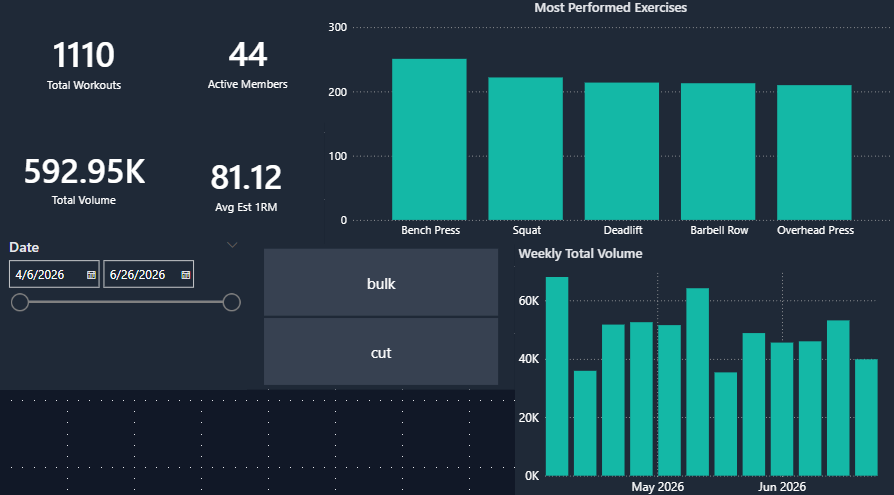

The dashboard page shown, as its layout file describes it:
{"tool":"powerbi","page":{"name":"Overview","canvas":[1280,720],"ordinal":0},"visuals":[{"type":"cardVisual","fields":{"Data":["workouts.Total Workouts"]},"box":[0,0,240,176],"z":0},{"type":"cardVisual","fields":{"Data":["workouts.Total Volume"]},"box":[0,166.2,240,178.8],"z":1000},{"type":"cardVisual","fields":{"Data":["workouts.Active Members"]},"box":[240,0,228.8,177.5],"z":2000},{"type":"cardVisual","fields":{"Data":["workouts.Avg Est 1RM"]},"box":[240,176,224,176],"z":3000},{"type":"clusteredColumnChart","title":"Most Performed Exercises","fields":{"Category":["workouts.exercise"],"Y":["workouts.Total Workouts"]},"box":[464,0,816,352],"z":4000},{"type":"clusteredColumnChart","title":"Weekly Total Volume","fields":{"Y":["workouts.Total Volume"],"Category":["Date.Week Start"]},"box":[736,352,544,368],"z":5000},{"type":"slicer","fields":{"Values":["Date.Date"]},"box":[0,336,352,224],"z":6000},{"type":"slicer","fields":{"Values":["members.goal"]},"box":[352,352,384,208],"z":7000}]}

Visuals, with their boxes in screenshot pixels (x1, y1, x2, y2), scaled from the page's 1280x720 canvas onto the 894x495 screenshot:
cardVisual - workouts.Total Workouts: 0, 0, 168, 121
cardVisual - workouts.Total Volume: 0, 114, 168, 237
cardVisual - workouts.Active Members: 168, 0, 327, 122
cardVisual - workouts.Avg Est 1RM: 168, 121, 324, 242
"Most Performed Exercises" clusteredColumnChart: 324, 0, 893, 242
"Weekly Total Volume" clusteredColumnChart: 514, 242, 893, 494
slicer - Date.Date: 0, 231, 246, 385
slicer - members.goal: 246, 242, 514, 385
